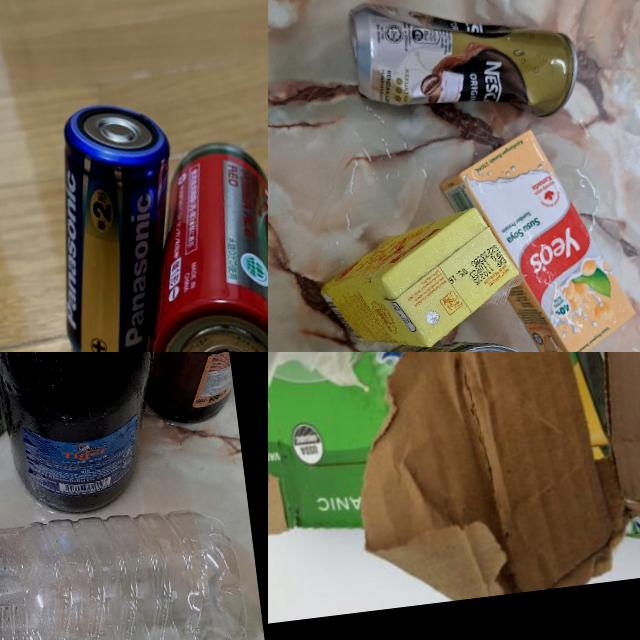bateria: (38, 94, 195, 352), (124, 133, 268, 352)
caixinha: (433, 116, 640, 352), (308, 201, 527, 352)
garrafa de vidro: (0, 352, 174, 532), (120, 352, 237, 429)
garrafa plástica: (0, 493, 252, 640)
lata: (344, 0, 582, 140)
papelão: (268, 352, 640, 626)
